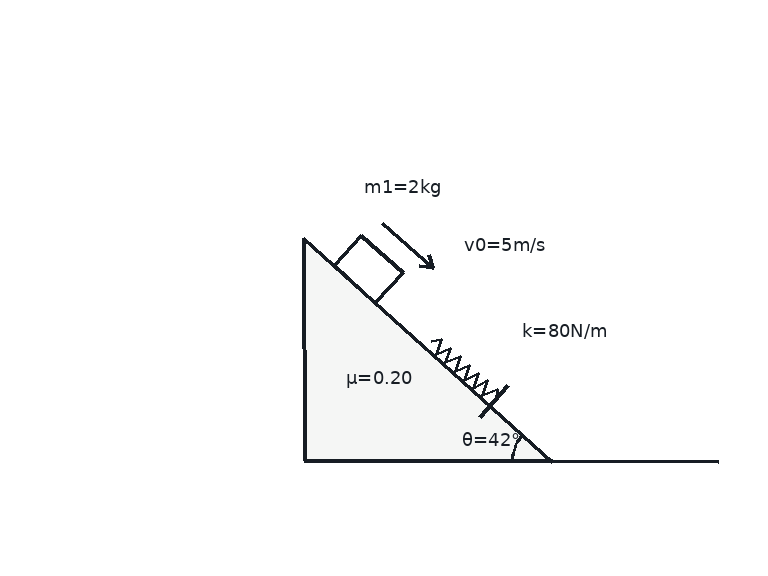block: (332, 233, 405, 304)
ramp: (303, 236, 554, 463)
spring: (430, 338, 498, 401)
